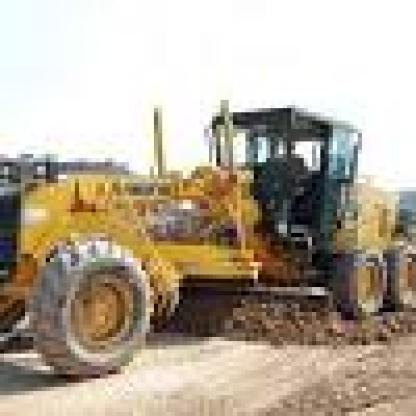bull_dozer/loader/grader: (8, 87, 412, 408)
